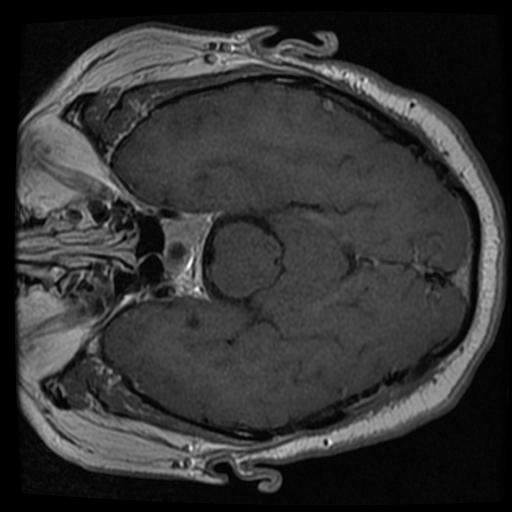pituitary tumour: (161, 212, 214, 273)
